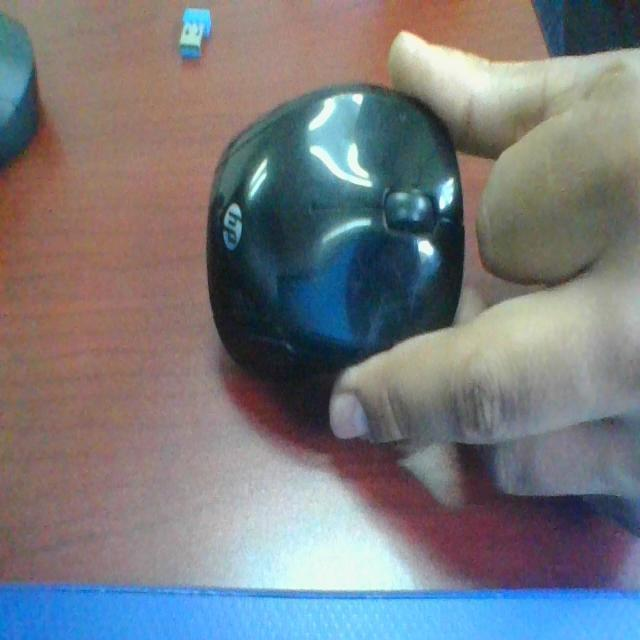Mouse: (198, 89, 480, 378)
